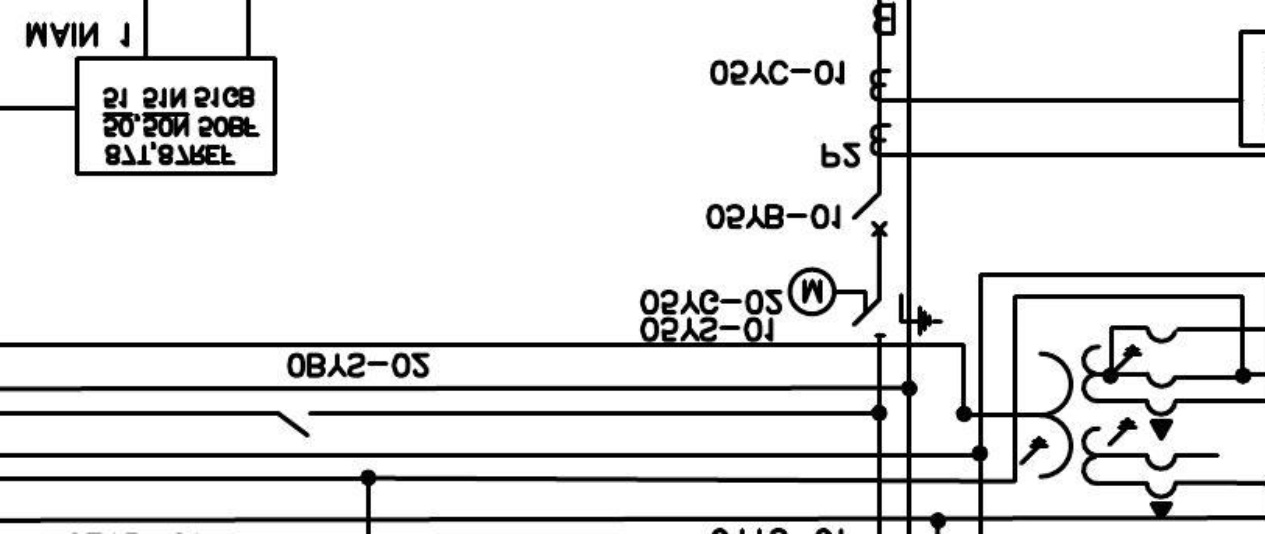115_3ways_ds_w_motor: (786, 265, 944, 338)
115_breaker: (864, 190, 902, 237)
115_ds: (275, 409, 315, 439)
115_vt_1p: (1018, 343, 1179, 520)
